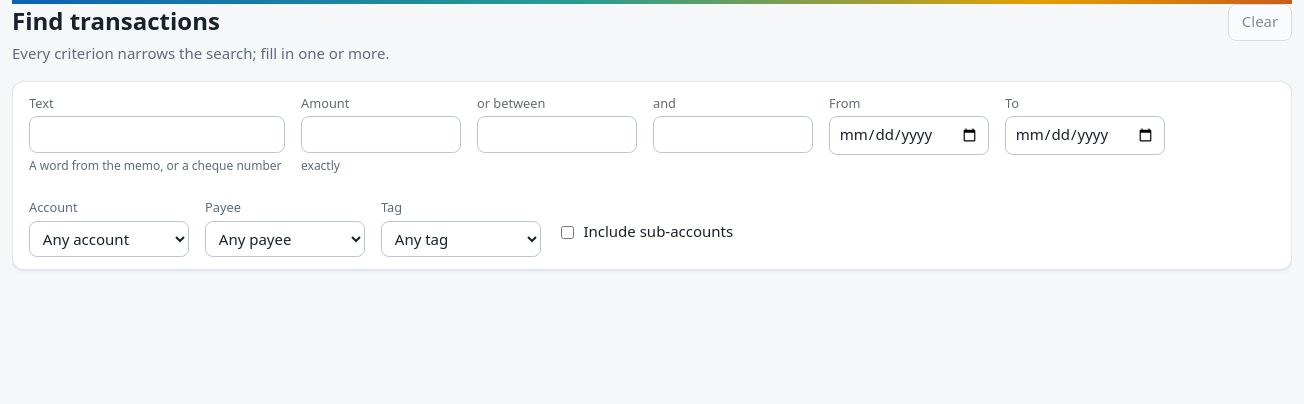
SearchPage › filters by a tag, which travels as tag_id
Expected: the heading "Find transactions" is shown, [12,4,220,37]
Select "Holiday" in the dropdown labelled "Tag". click: (461, 239)
box: [381,221,541,257]
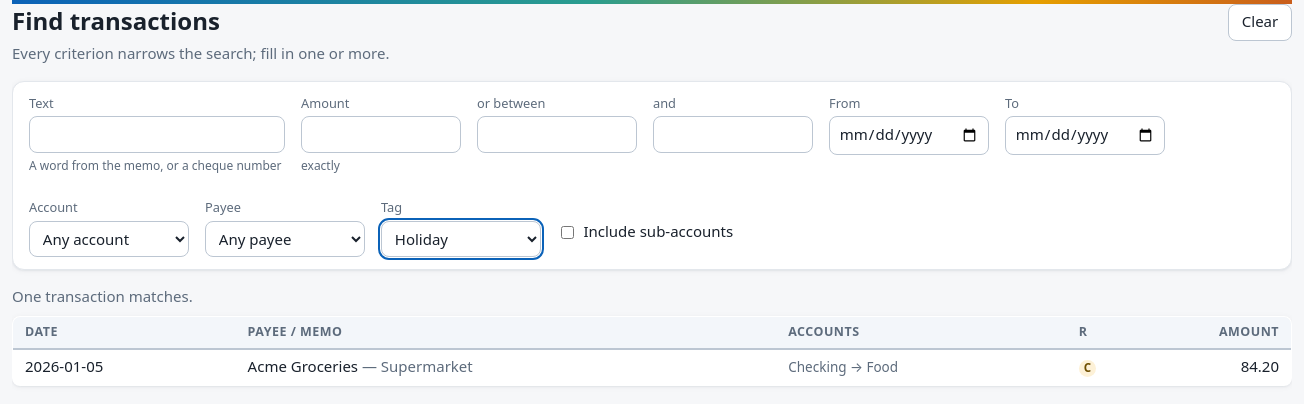
Result: the row "Supermarket" is shown at [12,349,1292,385]
